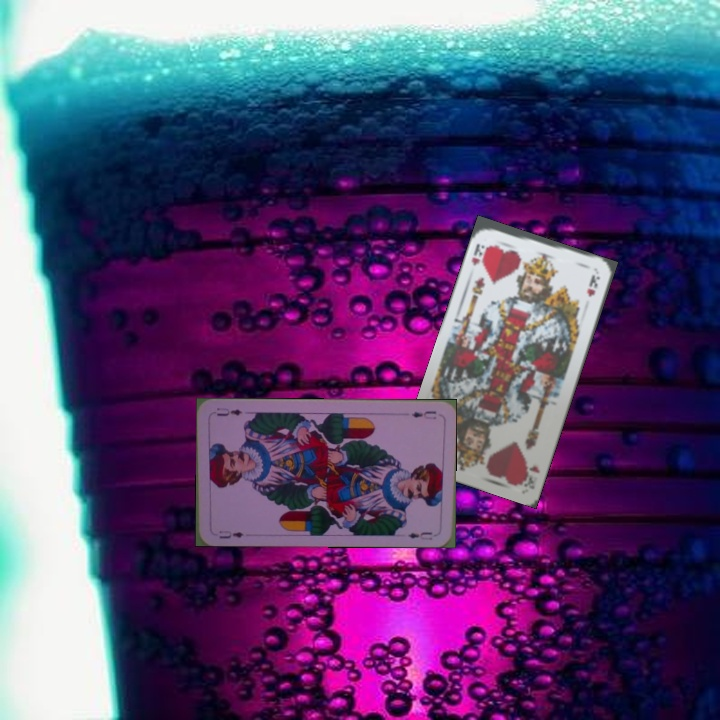EU: (407, 407, 439, 421), (215, 527, 246, 541)
HK: (519, 461, 542, 491), (467, 239, 487, 268)
